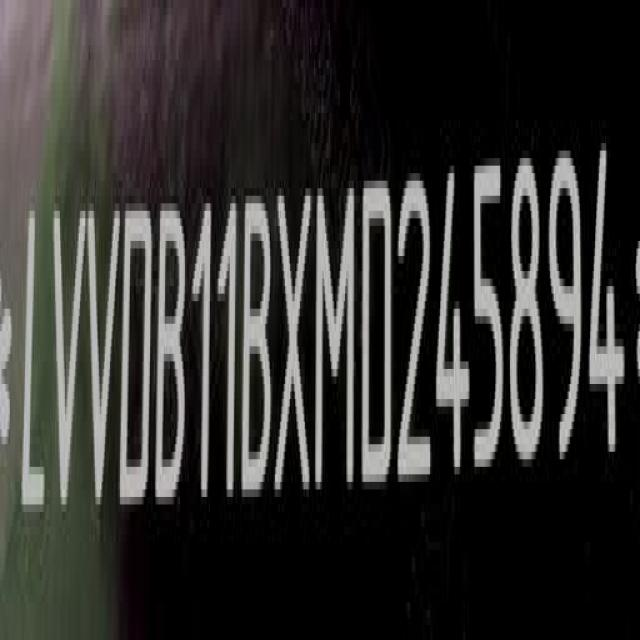1: (215, 193, 238, 512), (192, 197, 214, 518)
2: (399, 173, 434, 500)
4: (592, 140, 626, 470), (436, 172, 469, 494)
5: (473, 161, 507, 482)
8: (510, 152, 546, 475)
9: (551, 152, 585, 474)
B: (242, 190, 274, 508), (157, 201, 188, 515)
D: (120, 200, 156, 516), (361, 175, 394, 501)
L: (19, 204, 49, 530)
M: (315, 180, 357, 502)
V: (46, 205, 84, 525), (86, 201, 121, 522)
X: (278, 185, 314, 504)
